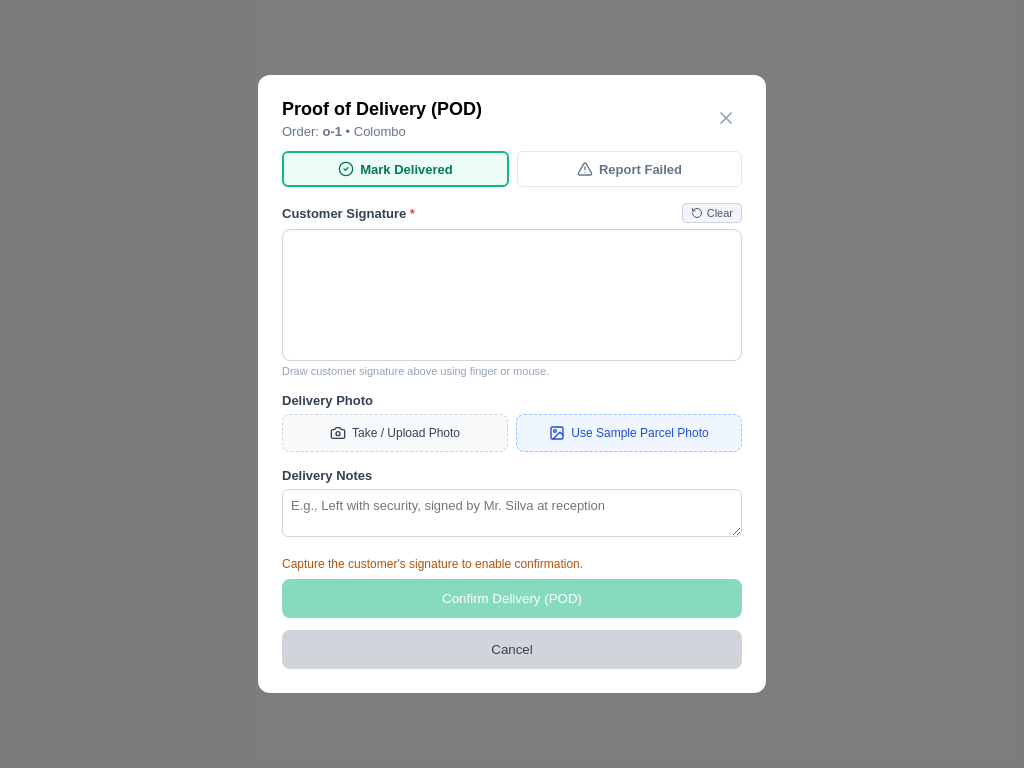
Test: ProofOfDeliveryModal › the signature survives switching to the failure tab and back, and is repainted
Press the mouse on the drawing at (512, 295), box [283,230,741,360]
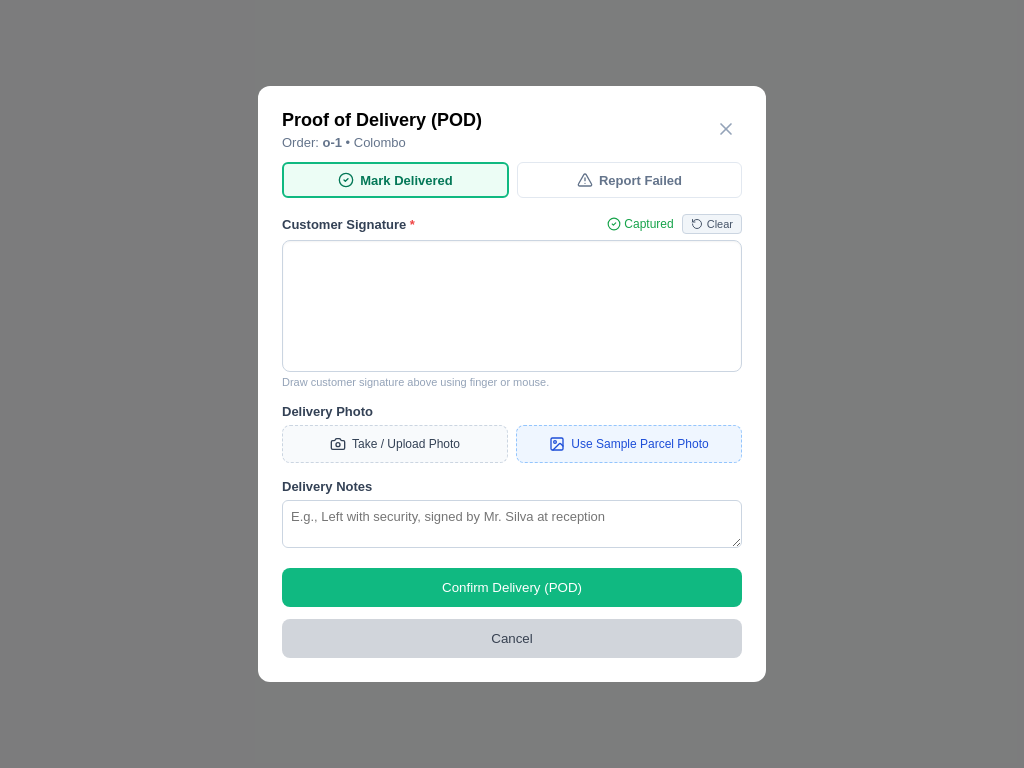
Click the button "Report Failed" at (630, 180), box [517,162,742,198]
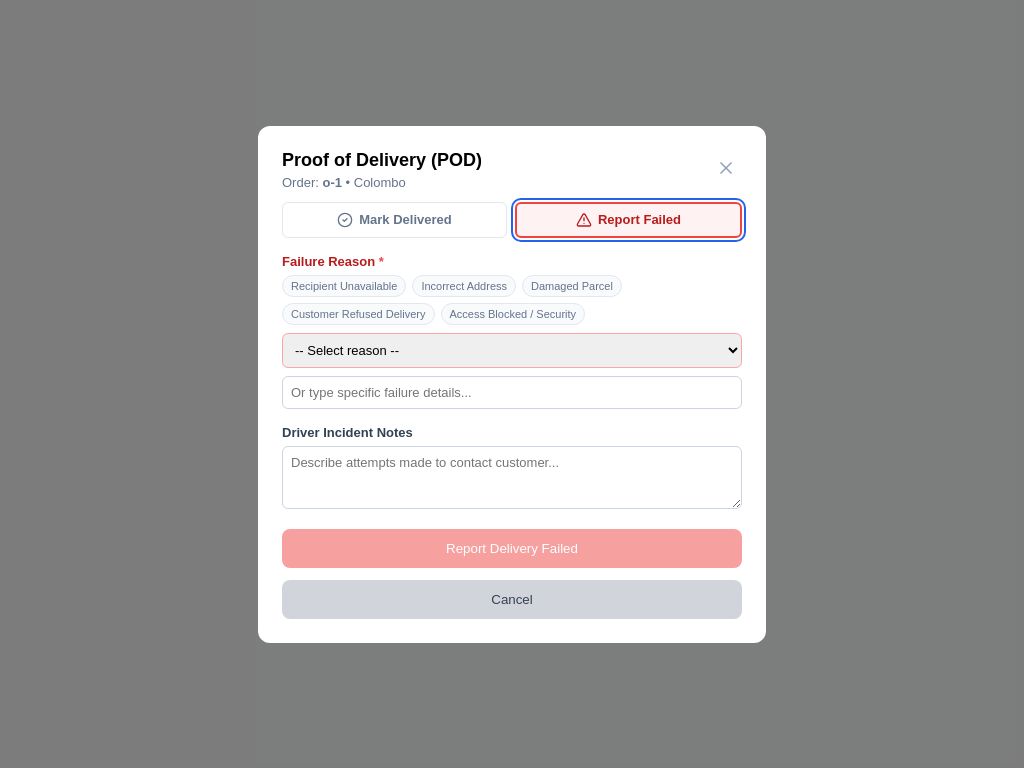
Now the button "Report Delivery Failed" is shown, box [282,528,742,568]
Click the button "Mark Delivered" at (394, 220), box [282,202,507,238]
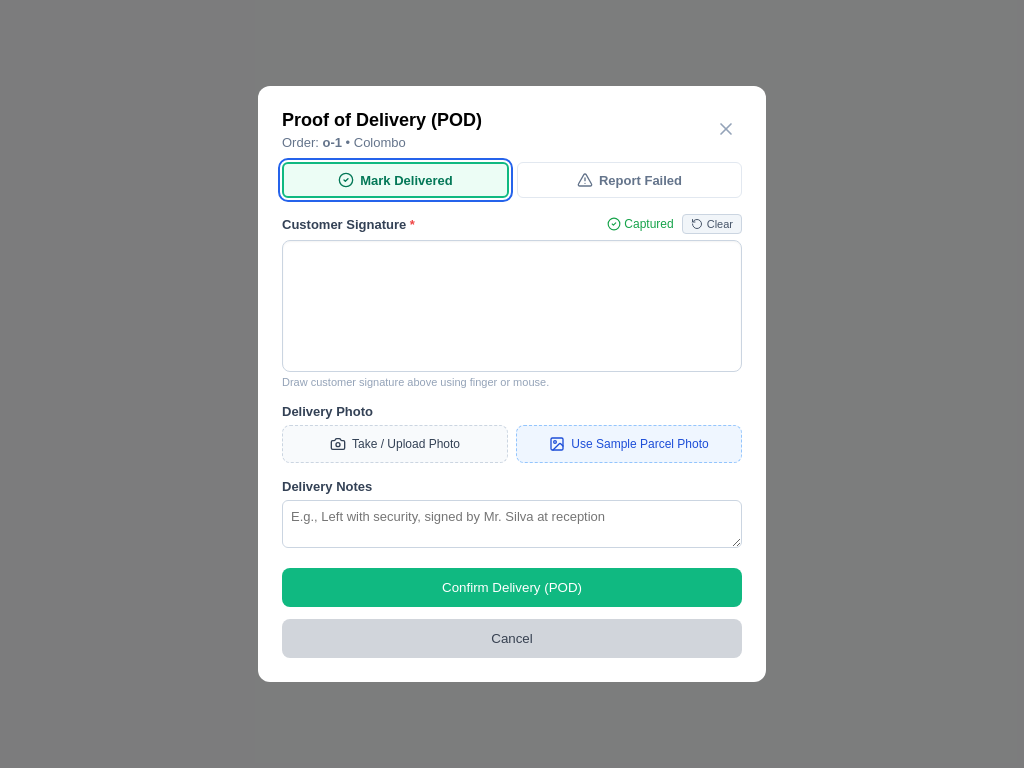
Now the text "Captured" is shown, box [607,217,674,231]
Now the button "Confirm Delivery (POD)" is enabled, box [282,568,742,607]
